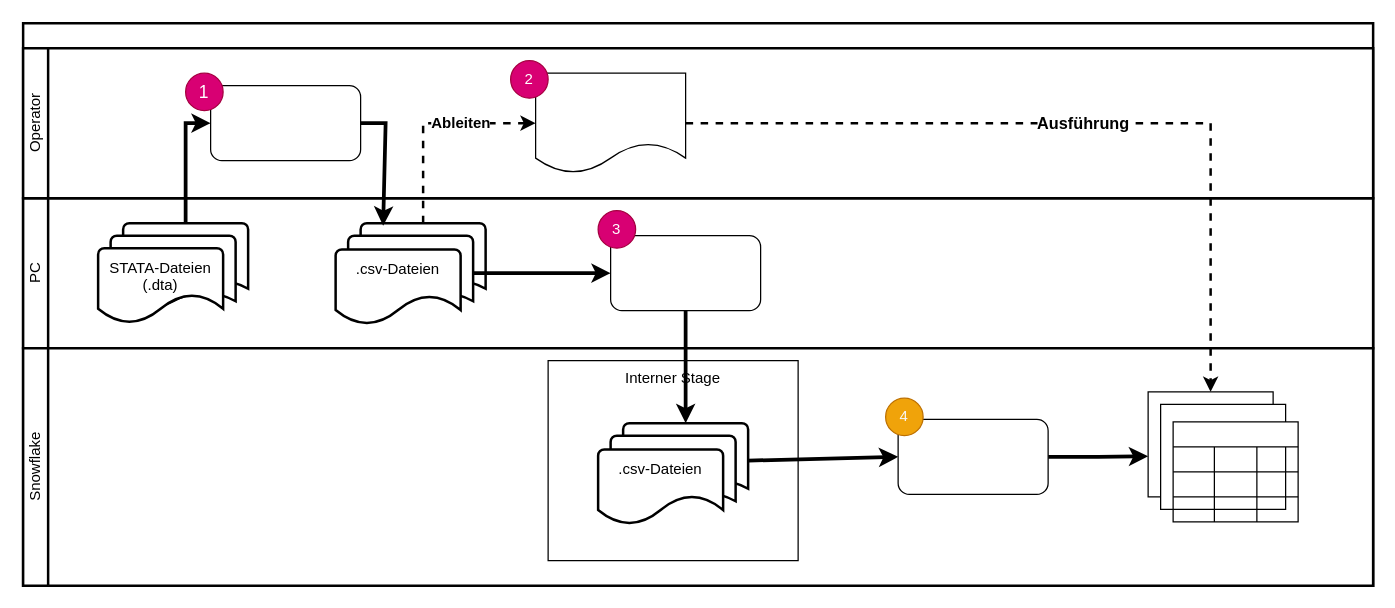
This 1395x608 diagram has some shape labels left out. The centre of each missing label's shape, as x and y in pixels:
"COPY" belongs at point (972, 456).
"CREATE TABLE-Befehle" belongs at point (610, 122).
"Konvertierung: .dta nach .csv" belongs at point (285, 122).
"snowsql: PUT" belongs at point (685, 272).
"Table" belongs at point (1235, 471).
